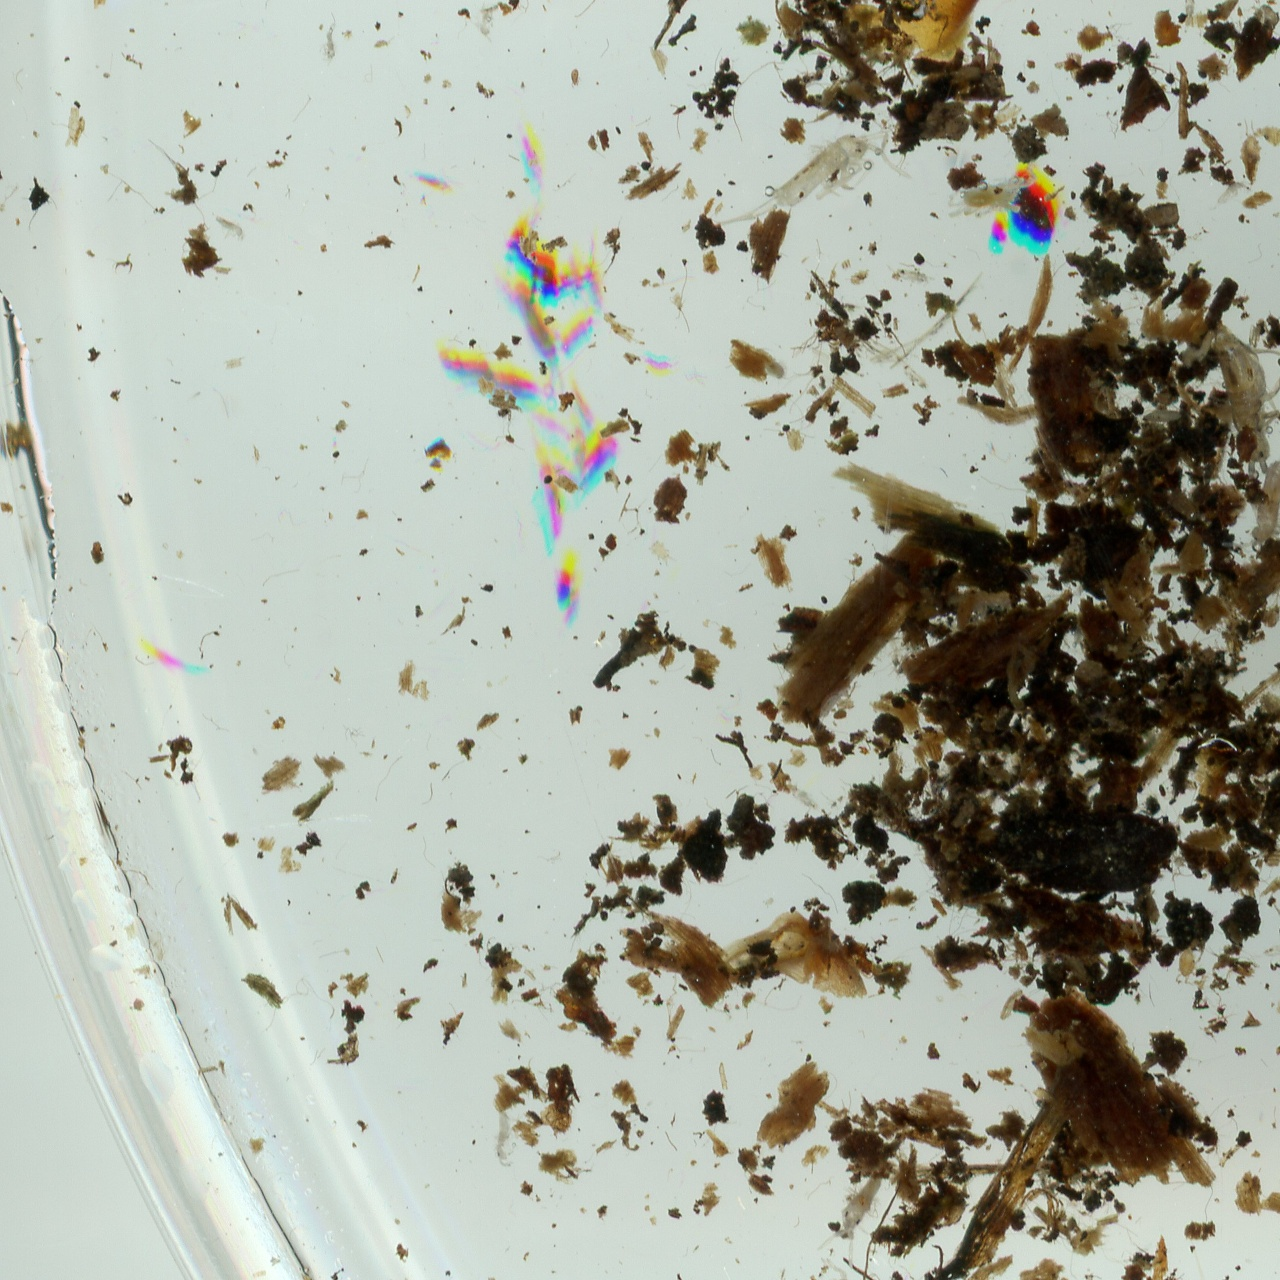arthropod: (703, 99, 924, 276), (1196, 310, 1280, 482), (814, 1171, 900, 1274), (1217, 448, 1280, 565), (943, 162, 1040, 219), (807, 675, 858, 736), (1200, 171, 1257, 219), (489, 1102, 521, 1169), (781, 778, 828, 820), (750, 347, 800, 384), (1172, 943, 1207, 988), (645, 534, 683, 574), (886, 261, 938, 289), (796, 1260, 868, 1280), (317, 7, 340, 68), (1141, 404, 1186, 427), (476, 3, 499, 44), (1180, 0, 1199, 37), (1262, 943, 1280, 972), (567, 66, 584, 91), (1071, 626, 1081, 651)
